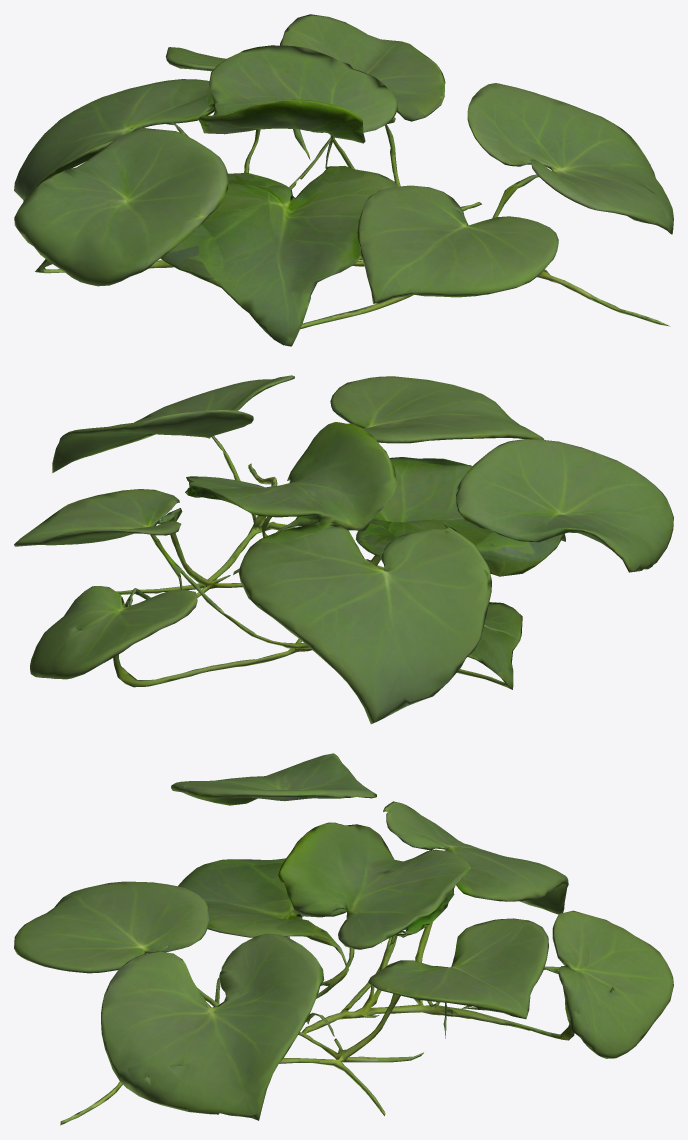
Rendered from giloy.glb.
3 renders of one model, top to bottom at view 1: azimuth 30°, elevation 25°; view 2: azimuth 150°, elevation 25°; view 3: azimuth 270°, elevation 25°, orthographic. The views are drawn at different scales.
Bounding box in the file's own units: 2 × 0.6023 × 2.
1 material, 1 textured.
